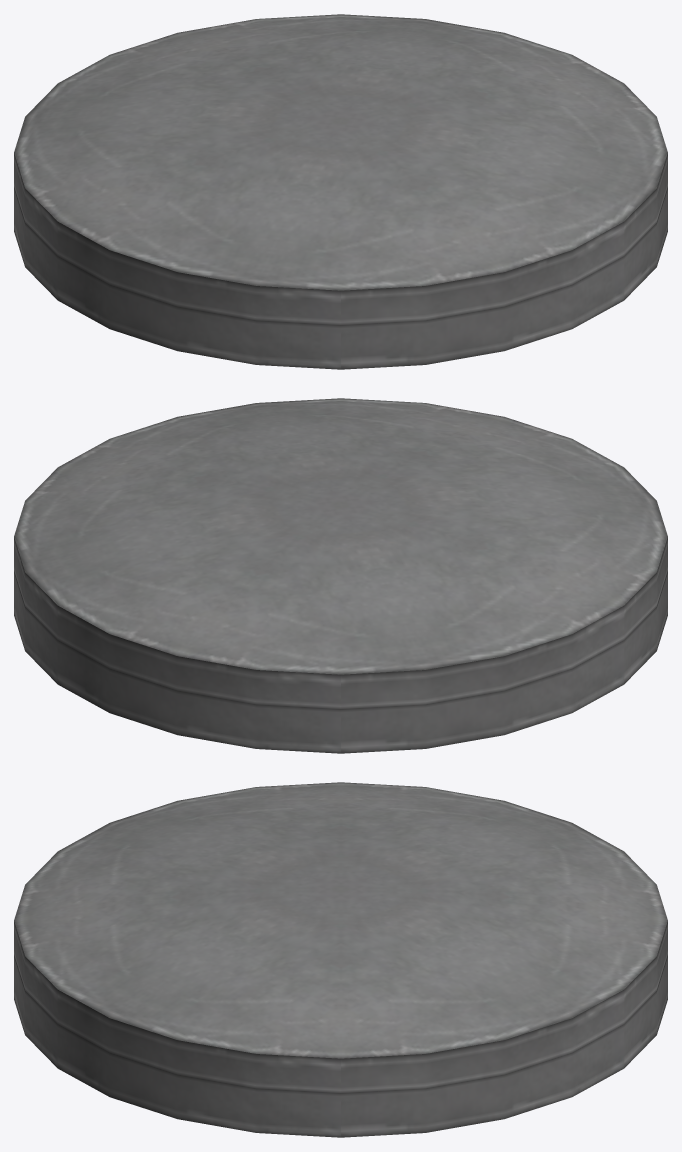
Rendered from rotanev_cap_s0p5_1.obj.
3 views of the same model, one above another, from view 1: azimuth 30°, elevation 25°; view 2: azimuth 150°, elevation 25°; view 3: azimuth 270°, elevation 25° (orthographic).
Parts seen in each view (by area): view 1: 2; view 2: 2; view 3: 2.
Boxes of the visible parts, x1=… form: 2: x1=14, y1=14, x2=667, y2=369; 2: x1=14, y1=398, x2=667, y2=753; 2: x1=14, y1=782, x2=667, y2=1137.
Size of the model in its own units: 0.9375 by 0.175 by 0.9375.
1 material, 1 textured.
